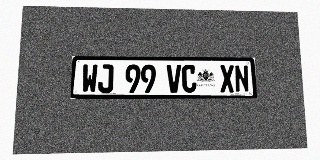9: (125, 64, 141, 93), (141, 64, 156, 93)
C: (182, 65, 197, 93)
J: (98, 64, 113, 93)
N: (234, 65, 249, 92)
V: (167, 65, 181, 93)
W: (81, 64, 98, 93)
X: (220, 65, 235, 92)
